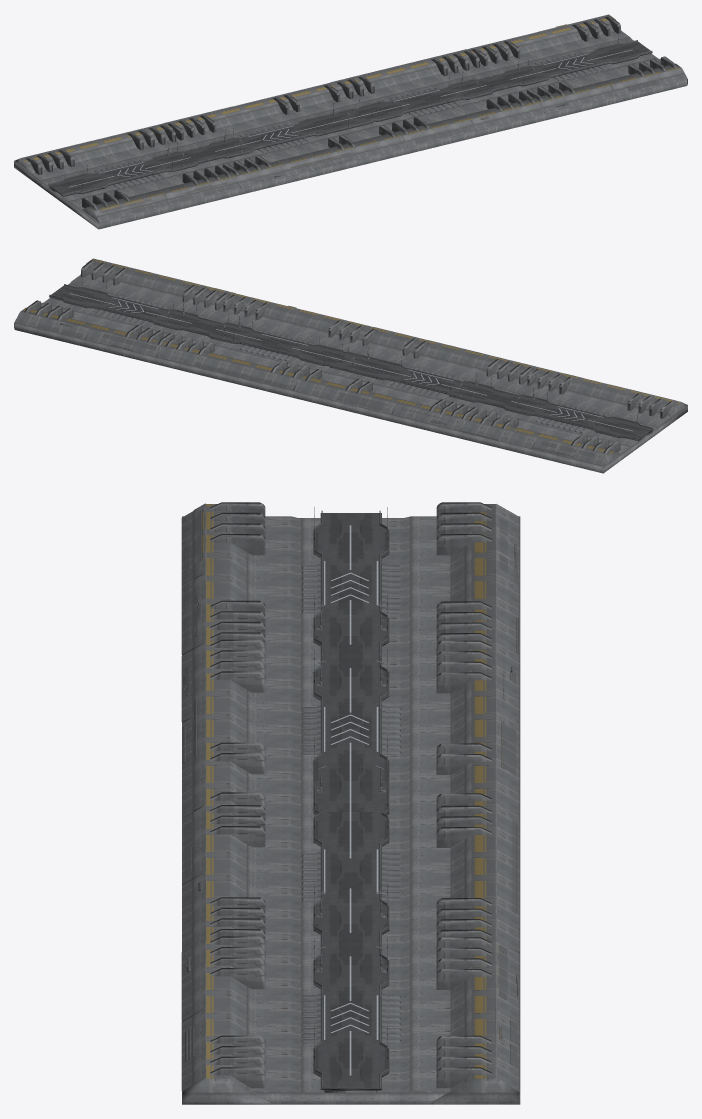
File: CityBlock016.fbx
The picture shows the model from 3 angles, top to bottom: view 1: azimuth 30°, elevation 25°; view 2: azimuth 150°, elevation 25°; view 3: azimuth 270°, elevation 25°; orthographic projection. The views are drawn at different scales.
Parts seen in each view (by area): view 1: SMCGBlock56_16037.Shape; view 2: SMCGBlock56_16037.Shape; view 3: SMCGBlock56_16037.Shape.
Part boxes in pixels (x1,y1,x2,y2): SMCGBlock56_16037.Shape: [14, 14, 687, 229]; SMCGBlock56_16037.Shape: [14, 258, 687, 473]; SMCGBlock56_16037.Shape: [181, 502, 520, 1104].
Bounding box in the file's own units: 2908 × 98.98 × 723.
